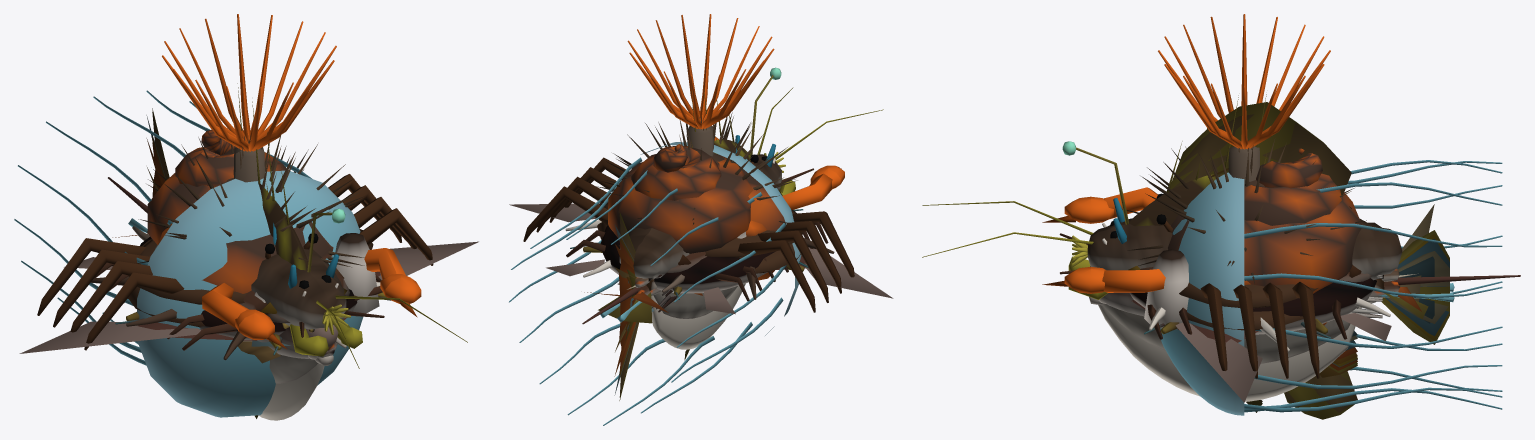
Rendered from creatures_vents.glb.
3 views of the same model, side by side, from view 1: azimuth 30°, elevation 25°; view 2: azimuth 150°, elevation 25°; view 3: azimuth 270°, elevation 25° (orthographic). The views are drawn at different scales.
Parts seen in each view (by area): view 1: flare_siphonophore, basalt_plate_crab, crimson_plume_tubeworm, iron_foot_snail, ashback_sea_cucumber, basalt_rasp_turtle, copperback_triggerfish, smolder_urchin, chimney_barnacle, basalt_mantis_shrimp, cinder_isopod, obsidian_anglerfish (+4 smaller); view 2: iron_foot_snail, basalt_plate_crab, flare_siphonophore, basalt_rasp_turtle, crimson_plume_tubeworm, copperback_triggerfish, ashback_sea_cucumber, smolder_urchin, obsidian_anglerfish, cinder_isopod, scald_clam, basalt_mantis_shrimp (+5 smaller); view 3: flare_siphonophore, iron_foot_snail, copperback_triggerfish, basalt_plate_crab, crimson_plume_tubeworm, ashback_sea_cucumber, basalt_rasp_turtle, soot_tang, obsidian_anglerfish, chimney_barnacle, smolder_urchin, scald_clam (+9 smaller).
Boxes of the visible parts, x1=… form: flare_siphonophore: x1=14, y1=90, x2=363, y2=417; basalt_plate_crab: x1=37, y1=174, x2=433, y2=350; crimson_plume_tubeworm: x1=162, y1=14, x2=336, y2=182; iron_foot_snail: x1=147, y1=129, x2=338, y2=296; ashback_sea_cucumber: x1=251, y1=248, x2=350, y2=334; basalt_rasp_turtle: x1=19, y1=237, x2=478, y2=353; copperback_triggerfish: x1=152, y1=83, x2=324, y2=420; smolder_urchin: x1=137, y1=135, x2=365, y2=267; chimney_barnacle: x1=155, y1=233, x2=379, y2=342; basalt_mantis_shrimp: x1=289, y1=275, x2=467, y2=368; cinder_isopod: x1=94, y1=262, x2=384, y2=350; obsidian_anglerfish: x1=266, y1=186, x2=345, y2=382; iron_foot_snail: x1=608, y1=144, x2=785, y2=280; basalt_plate_crab: x1=523, y1=137, x2=854, y2=312; flare_siphonophore: x1=509, y1=142, x2=801, y2=425; basalt_rasp_turtle: x1=509, y1=203, x2=893, y2=314; crimson_plume_tubeworm: x1=627, y1=14, x2=774, y2=156; copperback_triggerfish: x1=619, y1=82, x2=750, y2=400; ashback_sea_cucumber: x1=619, y1=152, x2=785, y2=278; smolder_urchin: x1=596, y1=106, x2=797, y2=224; obsidian_anglerfish: x1=654, y1=67, x2=781, y2=317; cinder_isopod: x1=566, y1=168, x2=828, y2=301; scald_clam: x1=597, y1=192, x2=802, y2=274; basalt_mantis_shrimp: x1=598, y1=87, x2=883, y2=323; flare_siphonophore: x1=1160, y1=160, x2=1502, y2=415; iron_foot_snail: x1=1102, y1=148, x2=1361, y2=293; copperback_triggerfish: x1=1098, y1=94, x2=1375, y2=419; basalt_plate_crab: x1=1042, y1=187, x2=1319, y2=378; crimson_plume_tubeworm: x1=1158, y1=14, x2=1330, y2=184; ashback_sea_cucumber: x1=1072, y1=218, x2=1402, y2=280; basalt_rasp_turtle: x1=1090, y1=266, x2=1391, y2=402; soot_tang: x1=1172, y1=114, x2=1357, y2=412; obsidian_anglerfish: x1=1062, y1=141, x2=1449, y2=372; chimney_barnacle: x1=1144, y1=249, x2=1188, y2=329; smolder_urchin: x1=1122, y1=136, x2=1366, y2=283; scald_clam: x1=1179, y1=282, x2=1318, y2=330.
Bounding box in the file's own units: 1.7 × 1.33 × 1.95.
